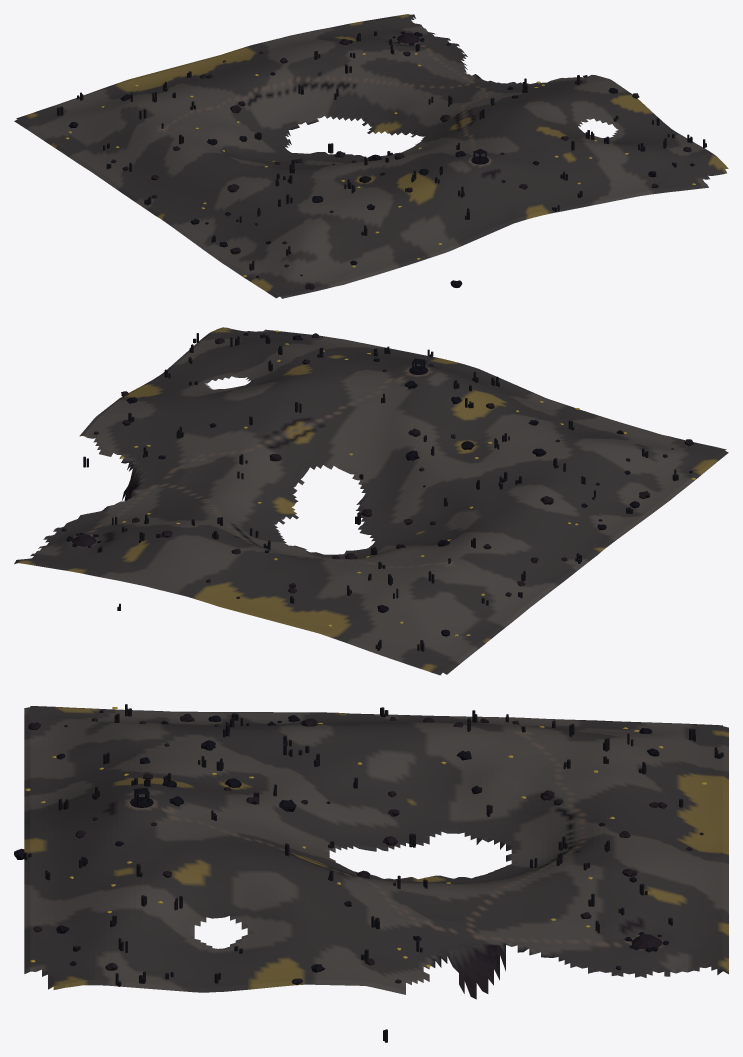
File: ash_isl_obsidian_arch.glb
3 views of the same model, one above another, from view 1: azimuth 30°, elevation 25°; view 2: azimuth 150°, elevation 25°; view 3: azimuth 270°, elevation 25° (orthographic). The views are drawn at different scales.
Parts seen in each view (by area): view 1: geometry_0; view 2: geometry_0; view 3: geometry_0.
Boxes of the visible parts, x1,y1,x2,y2 form: geometry_0: (14, 14, 728, 298); geometry_0: (14, 327, 728, 675); geometry_0: (14, 704, 728, 1042).
Bounding box in the file's own units: 242 × 42.97 × 244.
